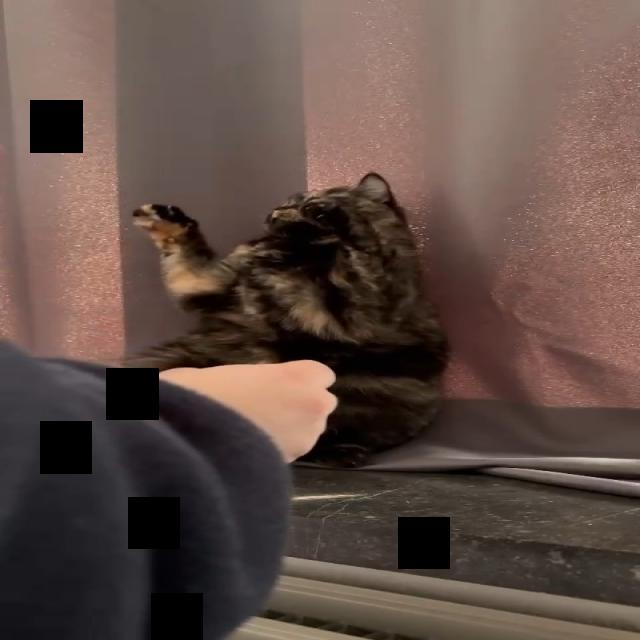authorized: (117, 170, 451, 468)
